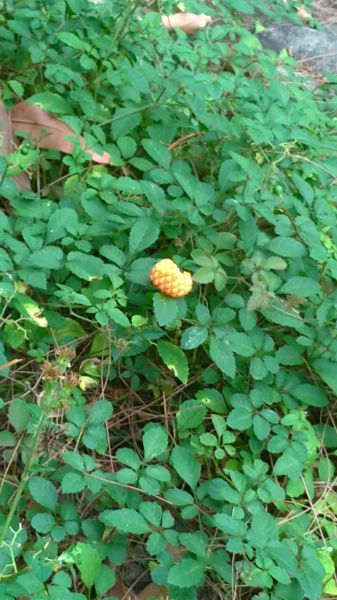eggs: (150, 254, 195, 300)
